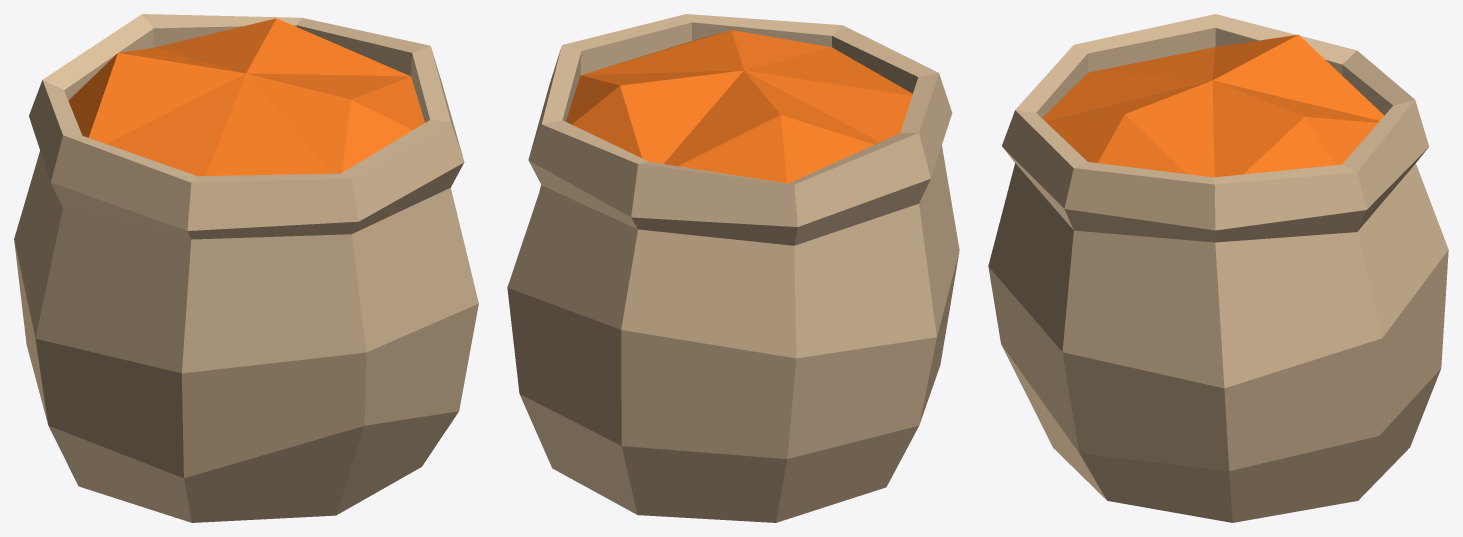
File: egypt_egypt-spice-medium.fbx
The picture shows the model from 3 angles, left to right: view 1: azimuth 30°, elevation 25°; view 2: azimuth 150°, elevation 25°; view 3: azimuth 270°, elevation 25°; orthographic projection. The views are drawn at different scales.
Visible parts, largest first — view 1: egypt_egypt_spice_medium; view 2: egypt_egypt_spice_medium; view 3: egypt_egypt_spice_medium.
Part boxes in pixels (<box>): egypt_egypt_spice_medium: <box>14,14,478,522</box>; egypt_egypt_spice_medium: <box>507,14,959,522</box>; egypt_egypt_spice_medium: <box>988,14,1448,522</box>.
Size of the model in its own units: 200 by 177 by 199.
